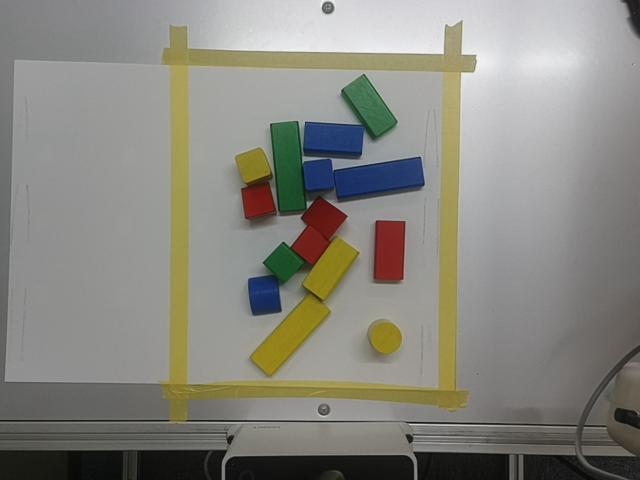blue_cube: (303, 159, 333, 193)
blue_longrect: (334, 157, 424, 199)
blue_rect: (305, 122, 363, 158)
cylinder: (368, 319, 402, 354)
green_cube: (263, 242, 304, 283)
green_longrect: (270, 121, 306, 214)
green_rect: (341, 74, 397, 139)
half_cylinder: (248, 276, 281, 315)
red_cube: (291, 226, 329, 264)
red_rect: (373, 220, 405, 281)
triangle: (301, 197, 346, 239), (241, 182, 275, 218)
yellow_cube: (235, 148, 271, 184)
yellow_longrect: (251, 294, 329, 375)
yelow_rect: (303, 237, 358, 300)
